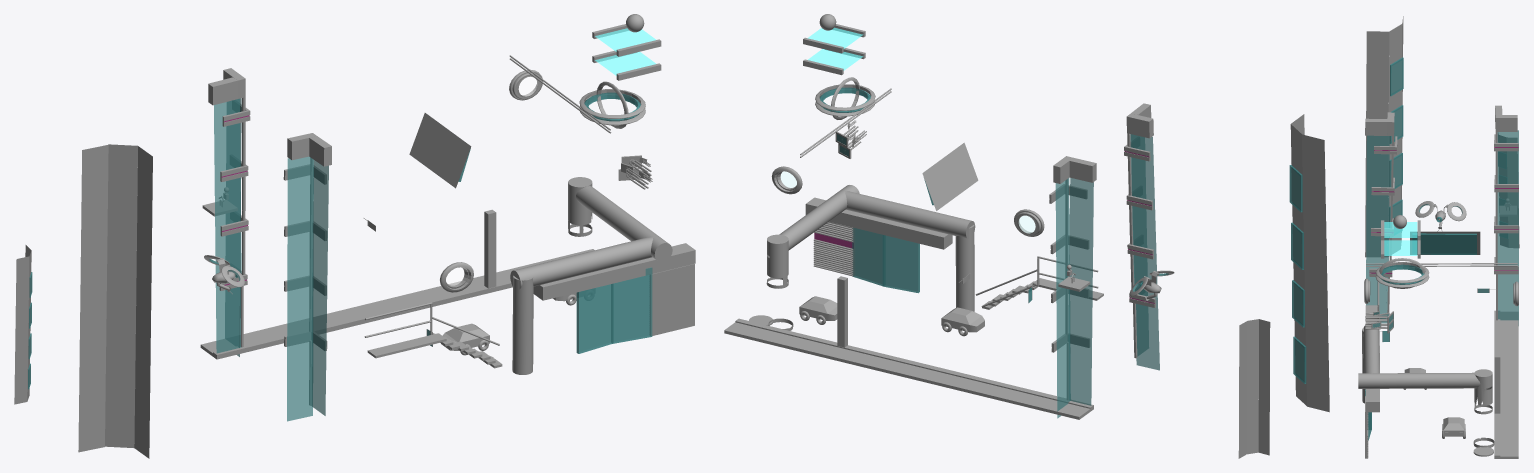
File: WhiteBoxAssets.fbx
3 renders of one model, left to right at view 1: azimuth 30°, elevation 25°; view 2: azimuth 150°, elevation 25°; view 3: azimuth 270°, elevation 25°, orthographic. The views are drawn at different scales.
Parts seen in each view (by area): view 1: WhiteBoxAssets; view 2: WhiteBoxAssets; view 3: WhiteBoxAssets.
Boxes of the visible parts, x1,y1,x2,y2 form: WhiteBoxAssets: (14, 14, 695, 458); WhiteBoxAssets: (724, 14, 1329, 458); WhiteBoxAssets: (1358, 16, 1519, 458).
Bounding box in the file's own units: 74.4 × 37.53 × 23.11.
